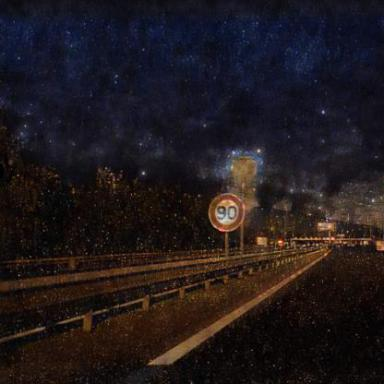Speed_limit_90: (209, 193, 245, 233)
